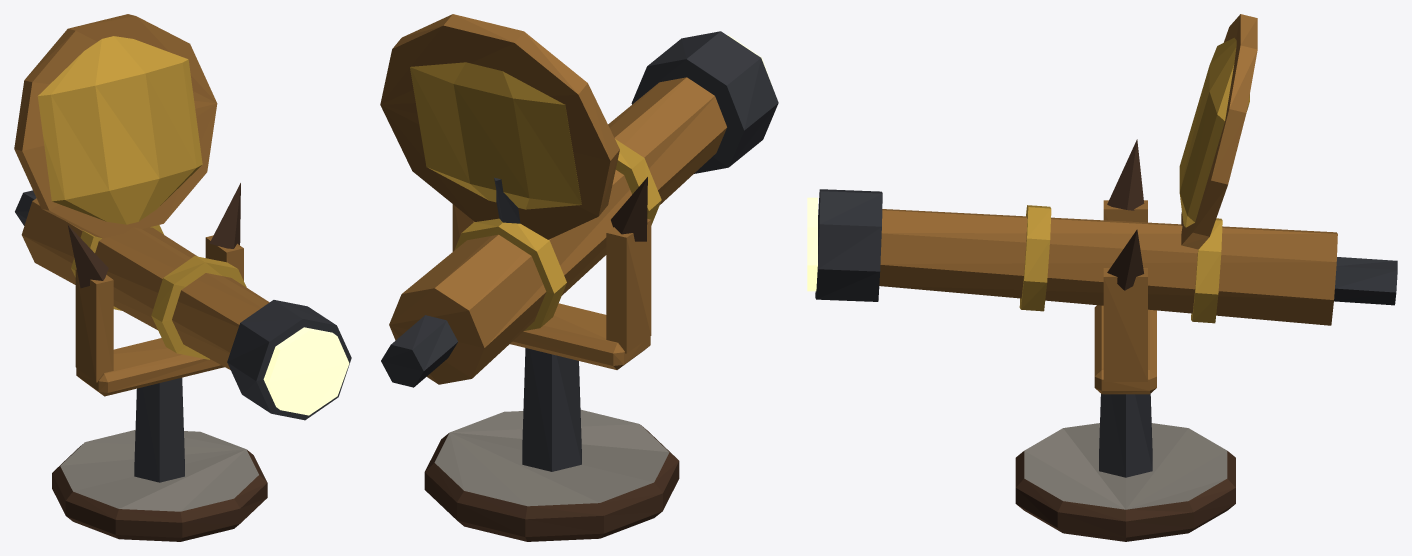
Rendered from owls_glare_head.glb.
The picture shows the model from 3 angles, left to right: view 1: azimuth 30°, elevation 25°; view 2: azimuth 150°, elevation 25°; view 3: azimuth 270°, elevation 25°; orthographic projection. The views are drawn at different scales.
Visible parts, largest first — view 1: owls_glare_head; view 2: owls_glare_head; view 3: owls_glare_head.
Boxes of the visible parts, box(x1,y1,x2,y2) form: owls_glare_head: box(14, 14, 351, 541); owls_glare_head: box(380, 14, 778, 541); owls_glare_head: box(807, 14, 1397, 541).
Bounding box in the file's own units: 0.27 × 0.5792 × 0.6636.
